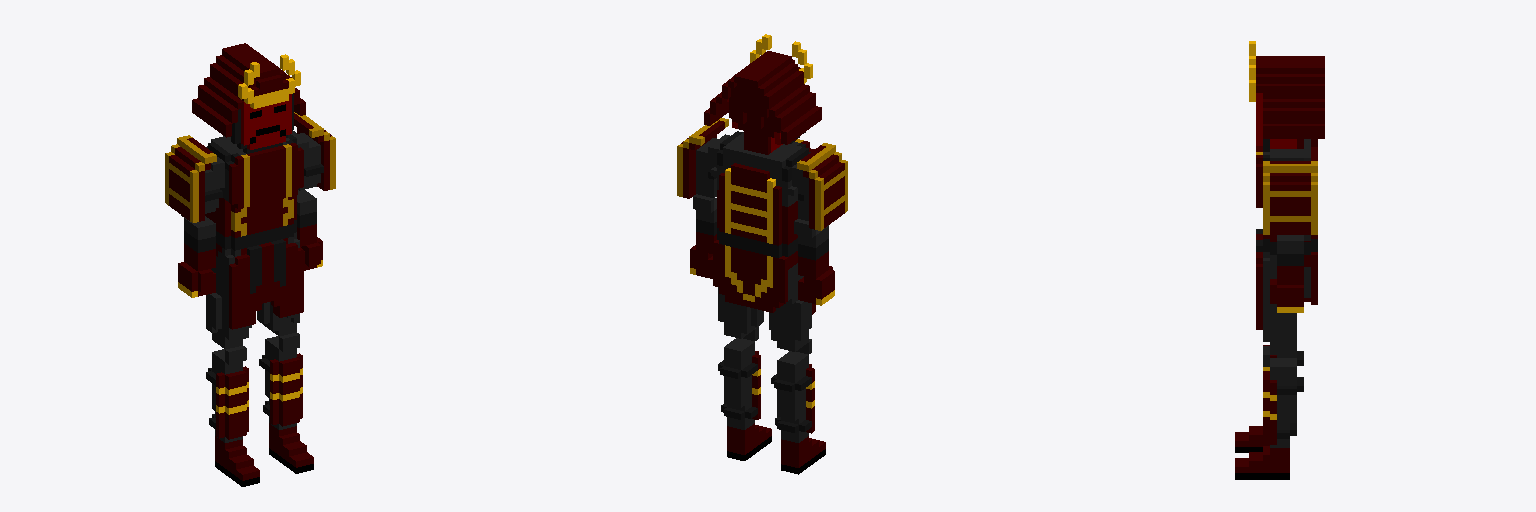
3 renders of one model, left to right at view 1: azimuth 30°, elevation 25°; view 2: azimuth 150°, elevation 25°; view 3: azimuth 270°, elevation 25°, orthographic.
Visible parts, largest first — view 1: object 1; view 2: object 1; view 3: object 1.
Boxes of the visible parts, box(x1,y1,x2,y2) form: object 1: box(165, 43, 335, 486); object 1: box(677, 34, 847, 474); object 1: box(1235, 41, 1324, 479).
Bounding box in the file's own units: 2.4 × 6.6 × 1.3.
Materials: 1 (1 with a texture image).